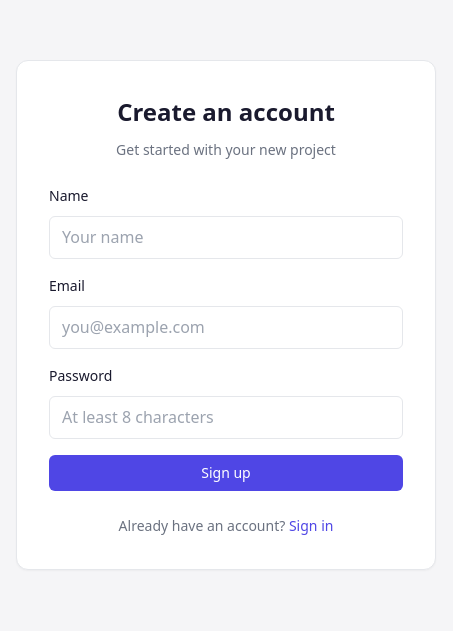
it: SignUp › shows network error on fetch failure
Step 1. Type "Test" into the field labelled "Name" → x=226, y=238, box [49,216,403,260]
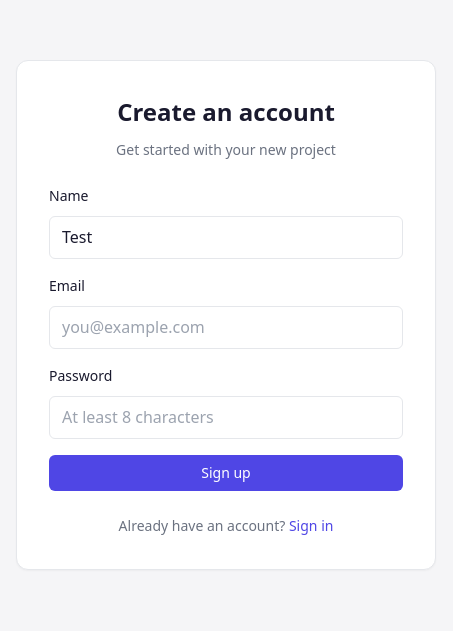
Step 2. Type "a@b.com" into the field labelled "Email" → x=226, y=328, box [49,306,403,349]
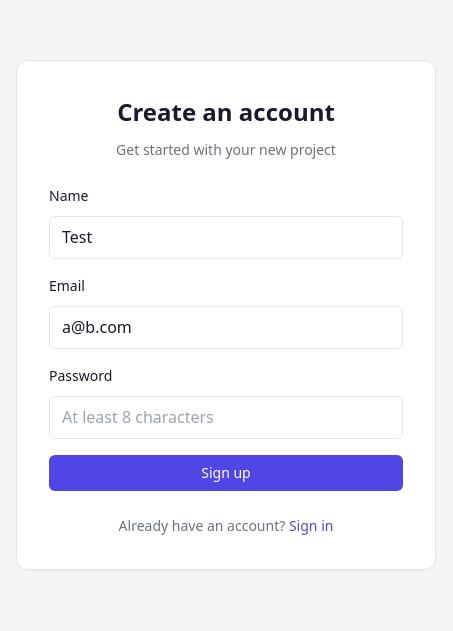
Step 3. Type "password123" into the password field labelled "Password" → x=226, y=418, box [49,396,403,439]
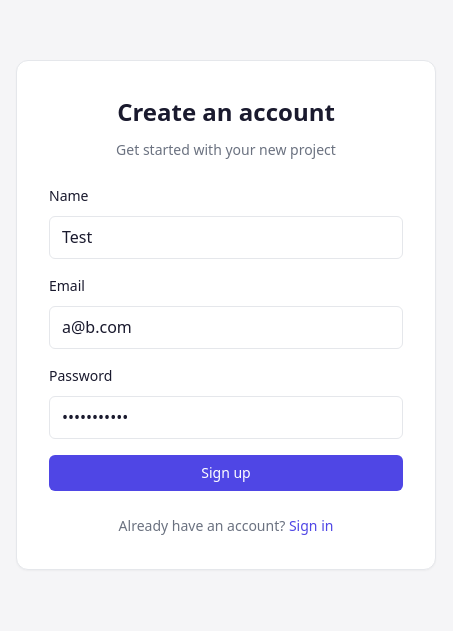
Step 4. Click the button "Sign up" → x=226, y=473, box [49,455,403,491]
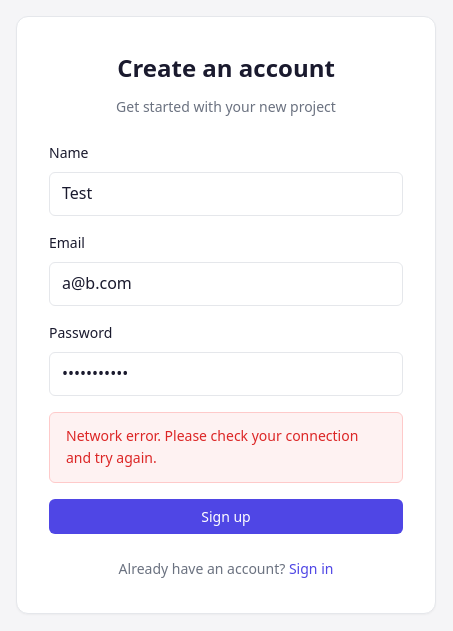
Now the message shows "Network error", box [66,426,358,467]
